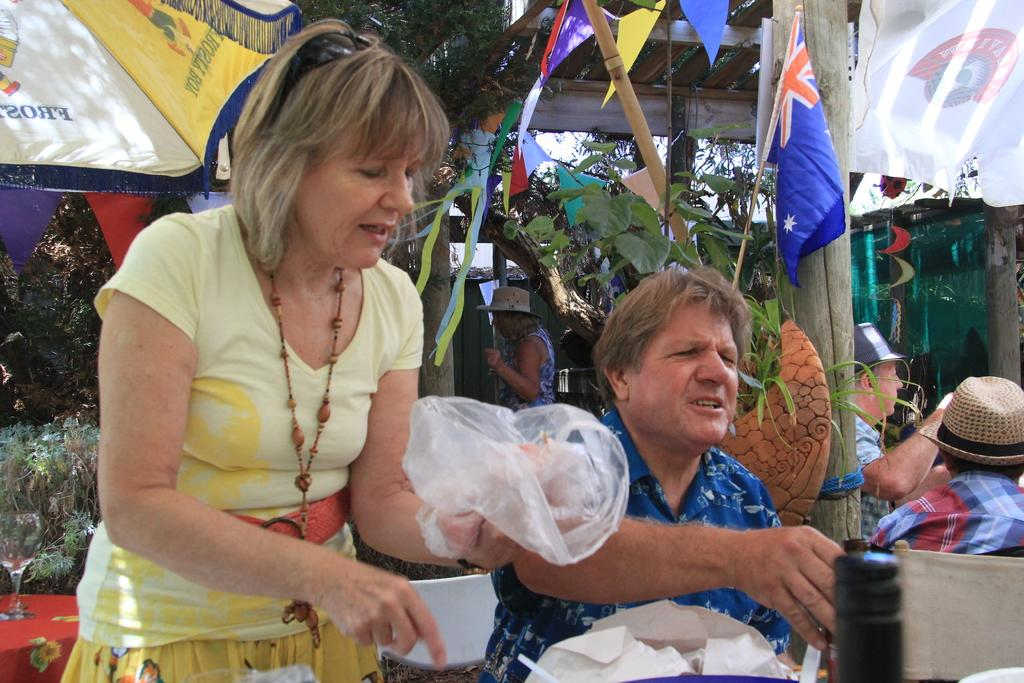Hat: (920, 371, 1022, 468), (854, 320, 901, 374), (480, 286, 540, 320)
